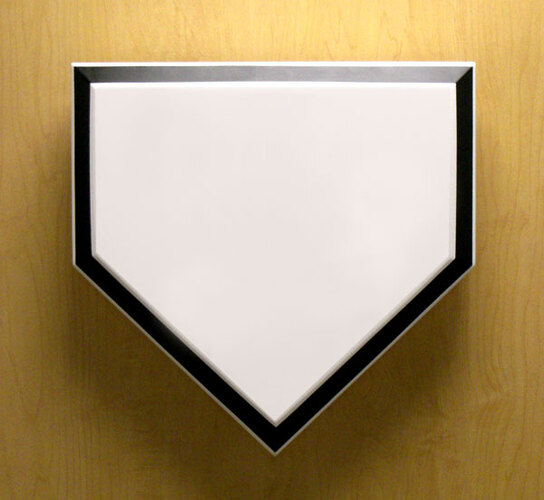homeplate: (67, 58, 475, 458)
